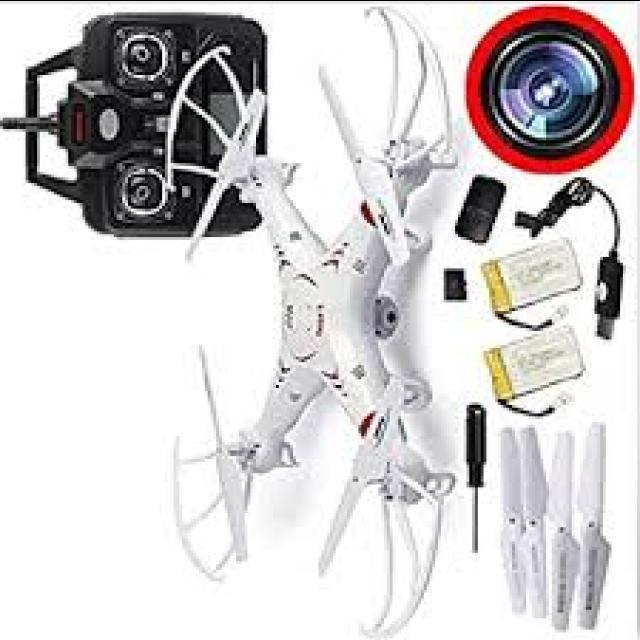drone: (159, 25, 482, 612)
